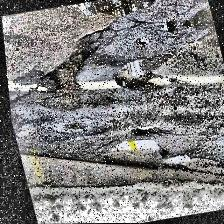pothole: (24, 31, 106, 96), (105, 52, 165, 96), (98, 130, 166, 162), (156, 150, 192, 174)
